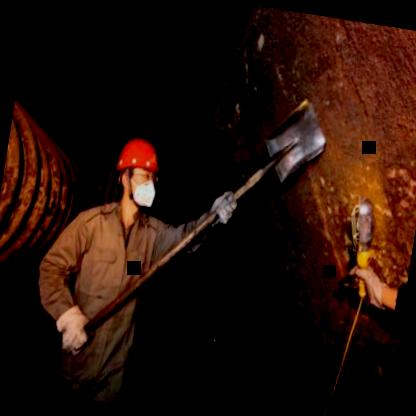helmet: (105, 129, 165, 215)
